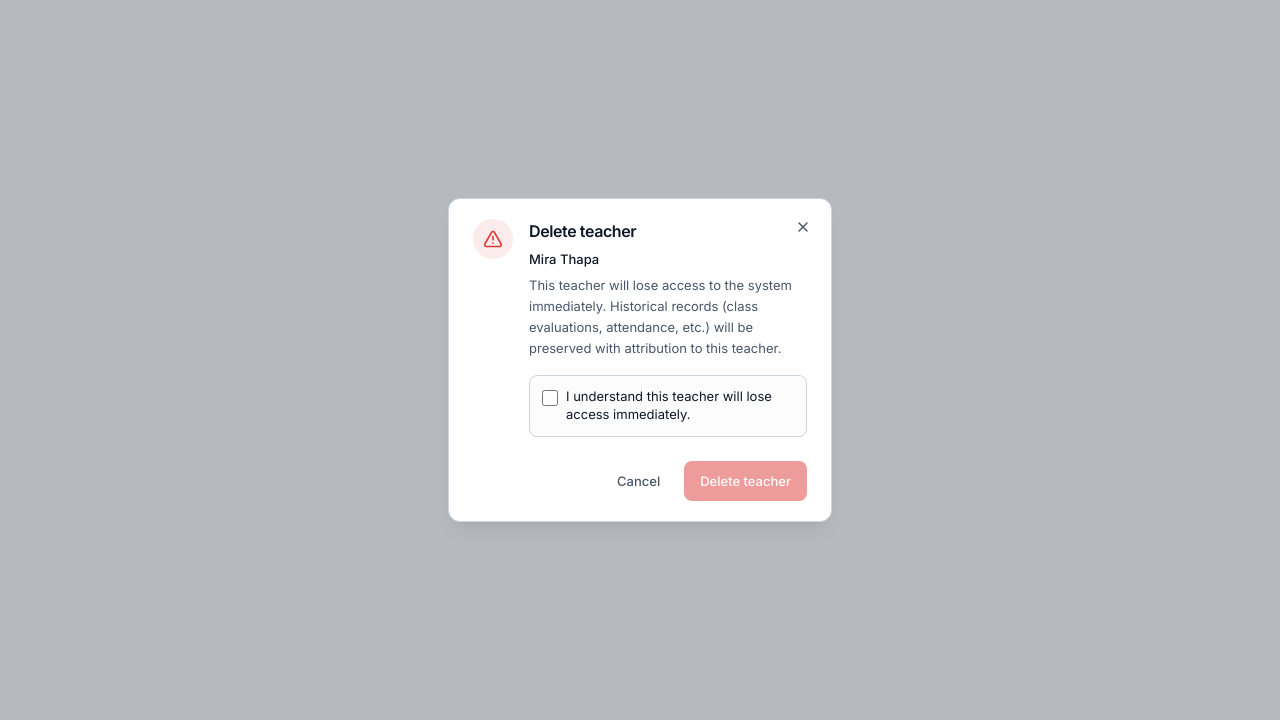
DeleteTeacherDialog (Session 6c.3 — checkbox + dialog-owned mutation) › disables the destructive button until the checkbox is checked
Expected: the button "Delete teacher" is disabled, [684,461,807,501]
Click the checkbox.
click(550, 398)  # box [542,390,558,406]
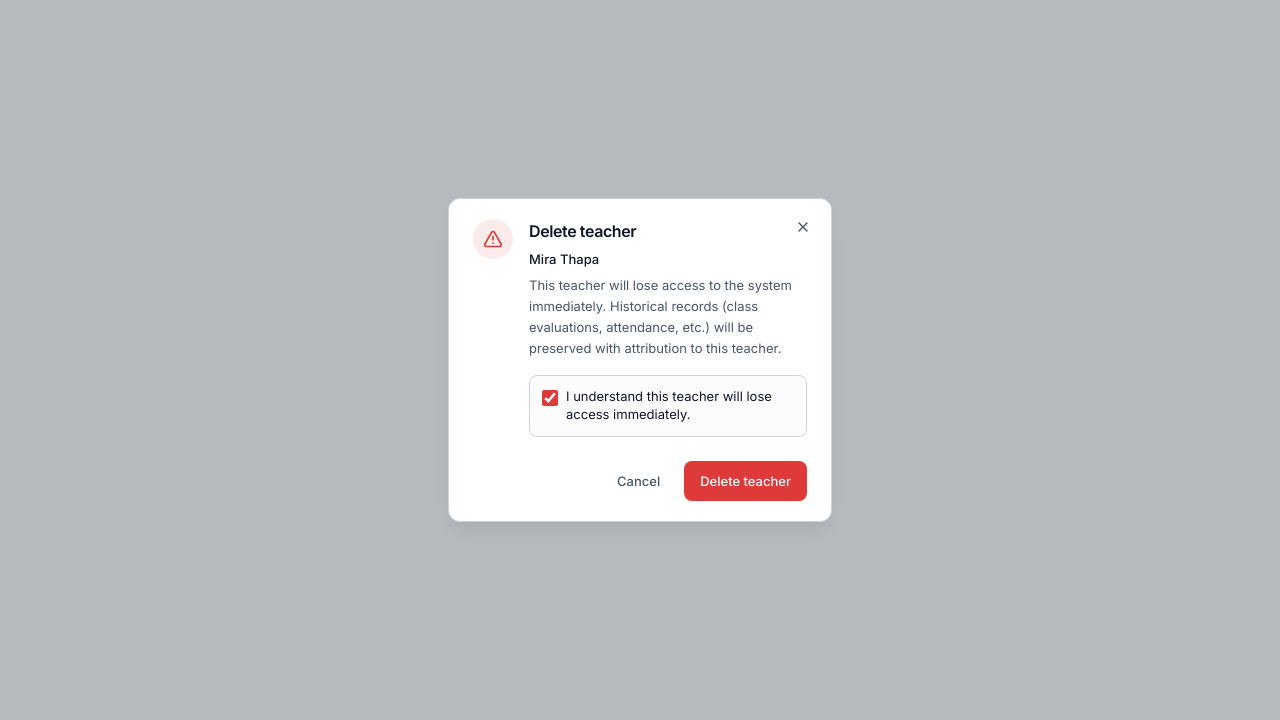
Result: the checkbox is checked
Result: the button "Delete teacher" is enabled at [684,461,807,501]
Click the checkbox.
click(550, 398)  # box [542,390,558,406]
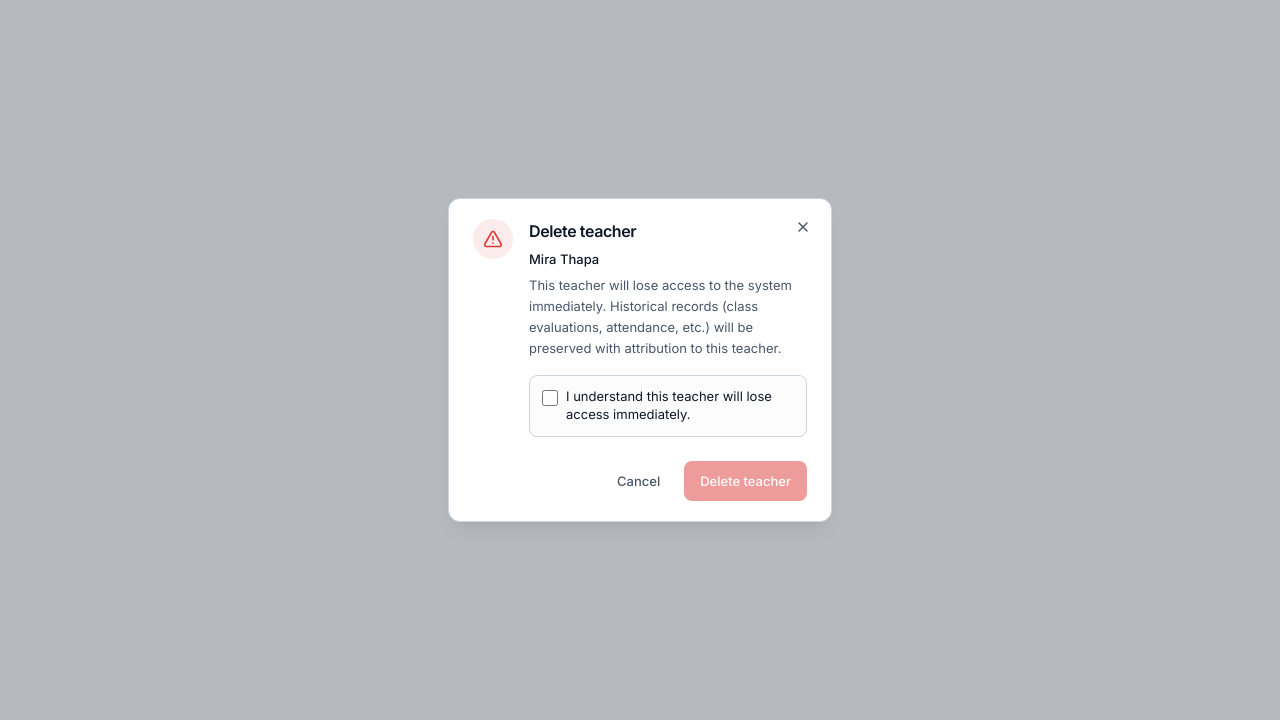
Result: the checkbox is not checked at [542,390,558,406]
Result: the button "Delete teacher" is disabled at [684,461,807,501]
